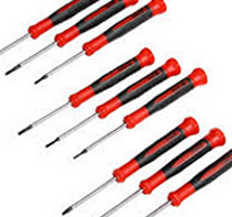screwdriver: (14, 52, 216, 157)
